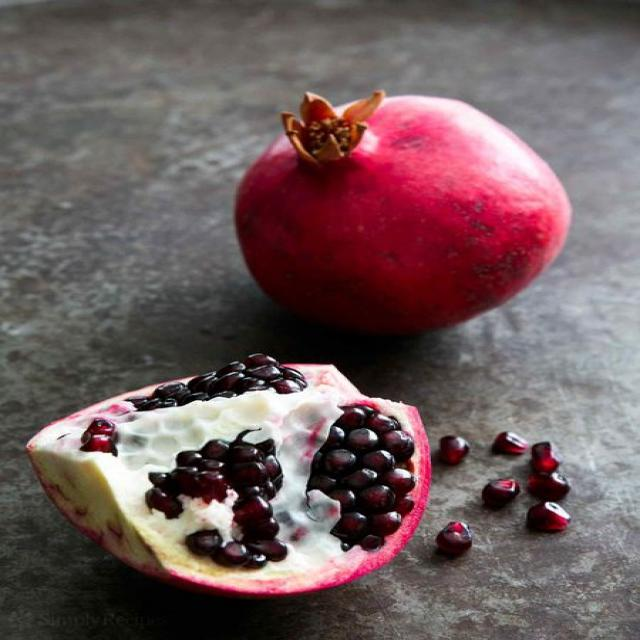pomegranate: (26, 352, 433, 602), (238, 84, 574, 347)
